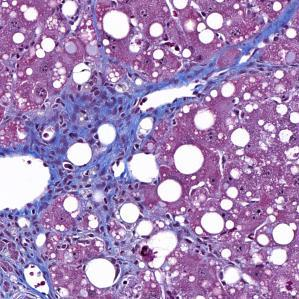fibrosis: (38, 79, 146, 161), (43, 167, 139, 243)
